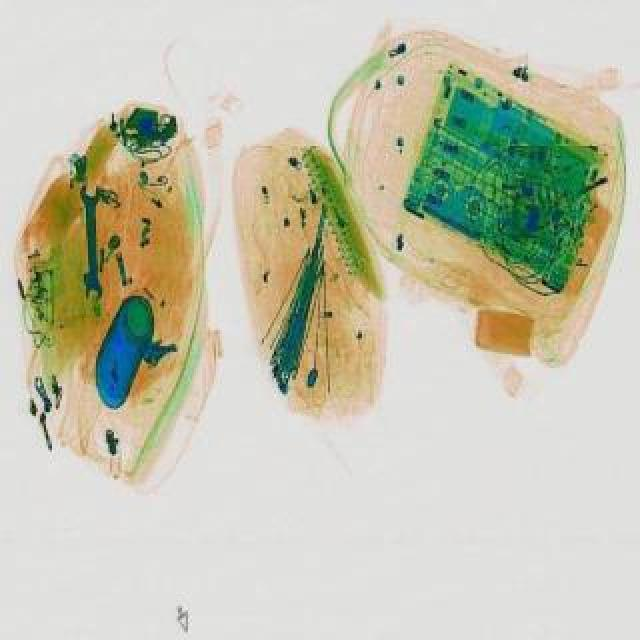scissors: (80, 186, 104, 304)
